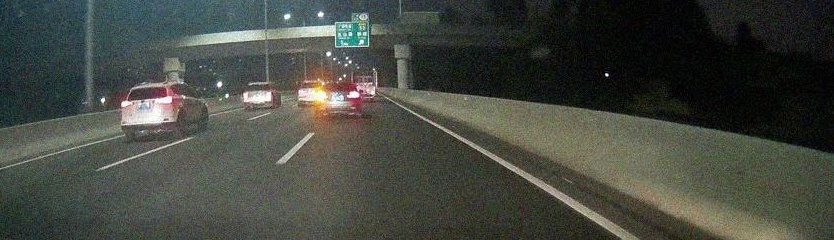L_light: (120, 100, 132, 108), (316, 93, 327, 99), (243, 92, 249, 97)
R_light: (157, 96, 172, 104), (347, 92, 360, 99), (265, 91, 272, 96)
T_light: (142, 86, 153, 90), (335, 84, 344, 86), (255, 84, 260, 86)
night-left: (316, 81, 361, 118)
night-no: (119, 82, 176, 137), (242, 82, 273, 110)
